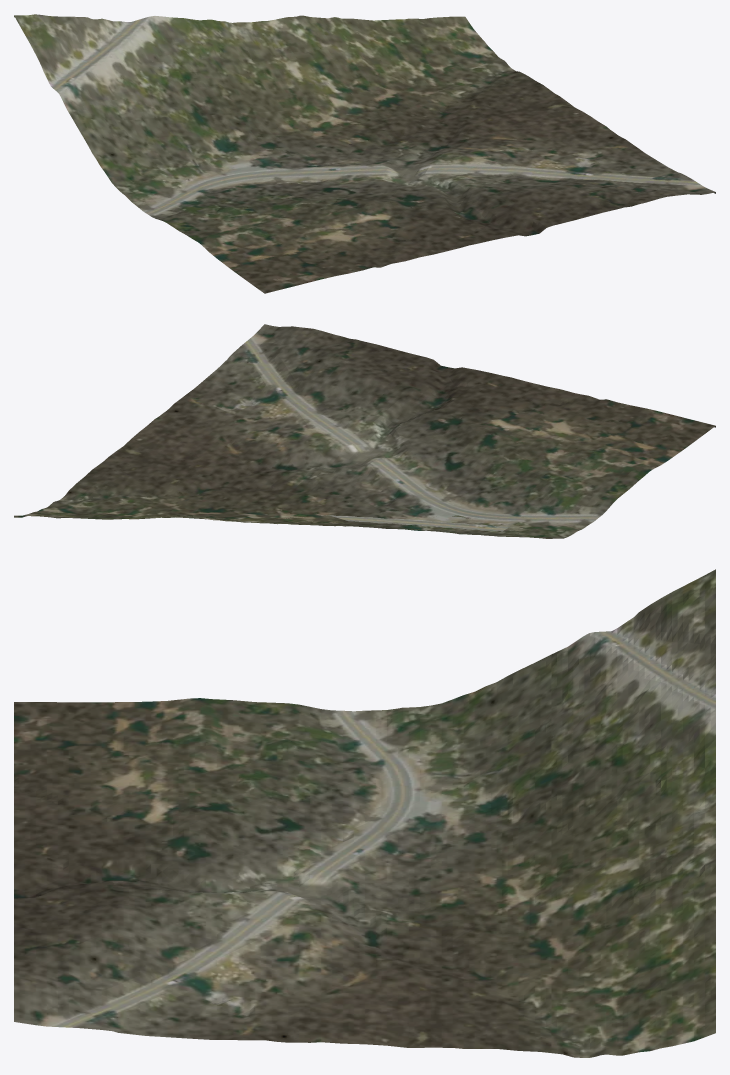
The picture shows the model from 3 angles, top to bottom: view 1: azimuth 30°, elevation 25°; view 2: azimuth 150°, elevation 25°; view 3: azimuth 270°, elevation 25°; orthographic projection. The views are drawn at different scales.
Size of the model in its own units: 250 by 69.34 by 241.
1 material, 1 textured.
